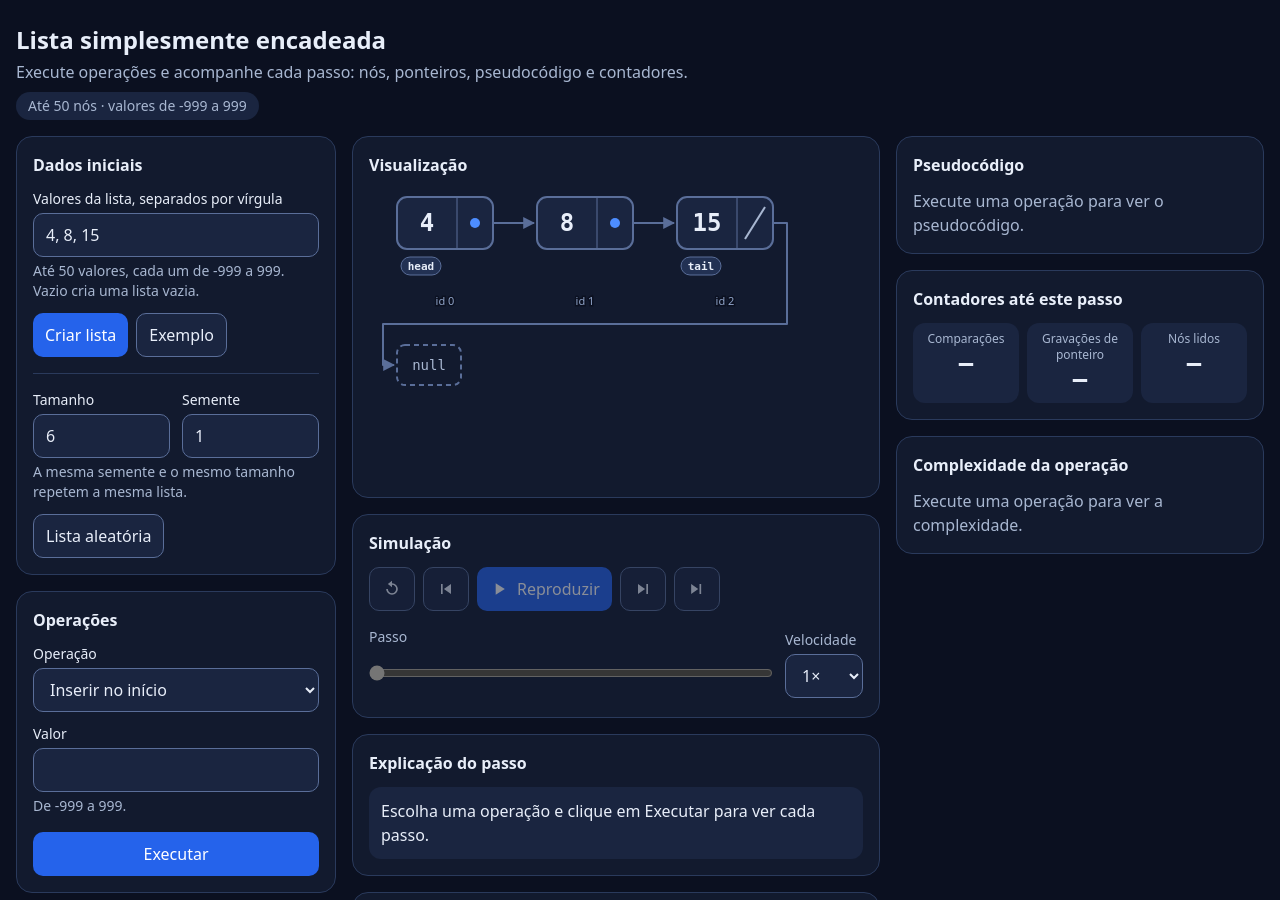
Test case: pesquisa › valor ausente não é erro: percorre tudo e avisa
Select "Pesquisar valor" in the dropdown labelled "Operação" at point(176, 690), box [33, 668, 319, 712]
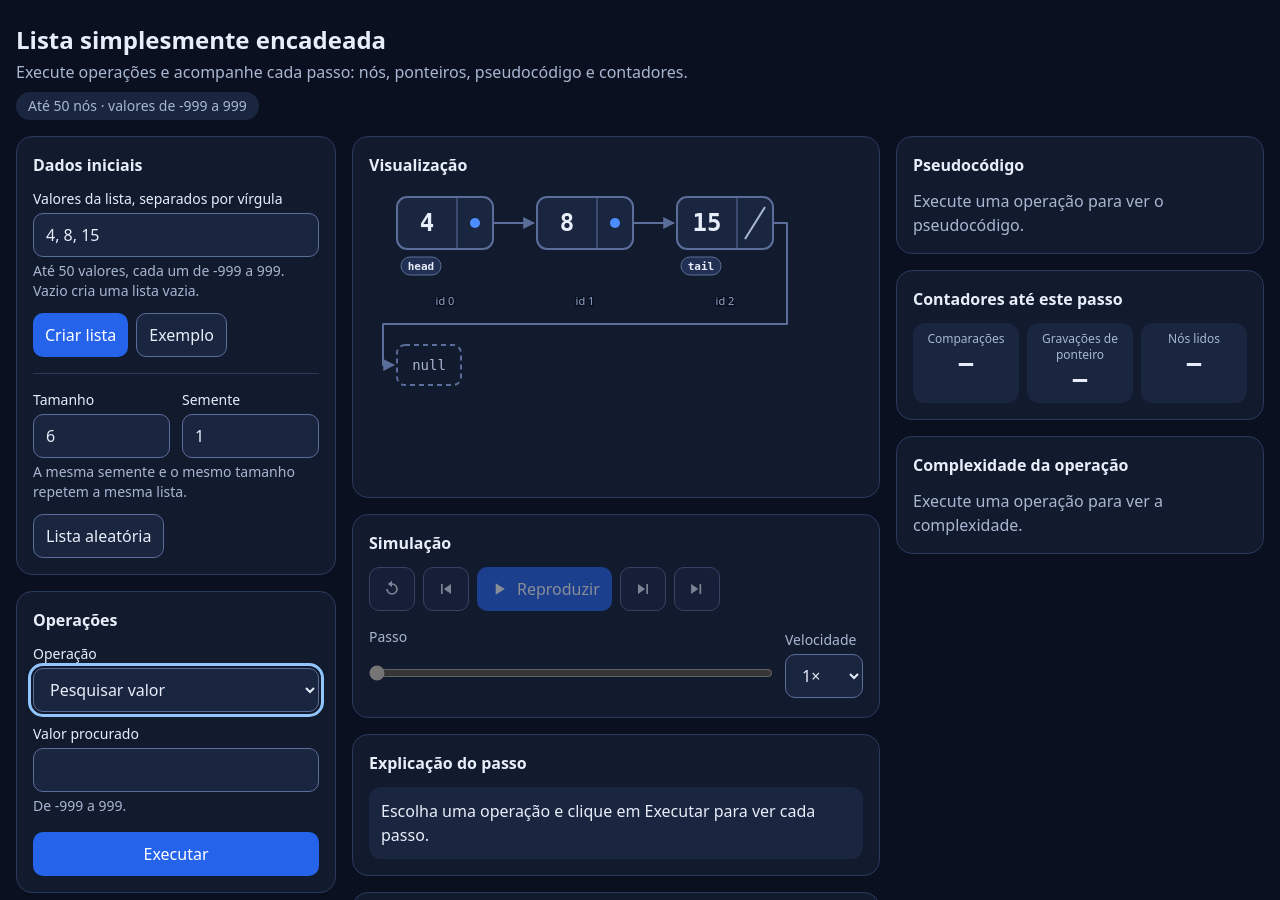
Type "99" into the field labelled "Valor procurado" at point(176, 770), box [33, 748, 319, 792]
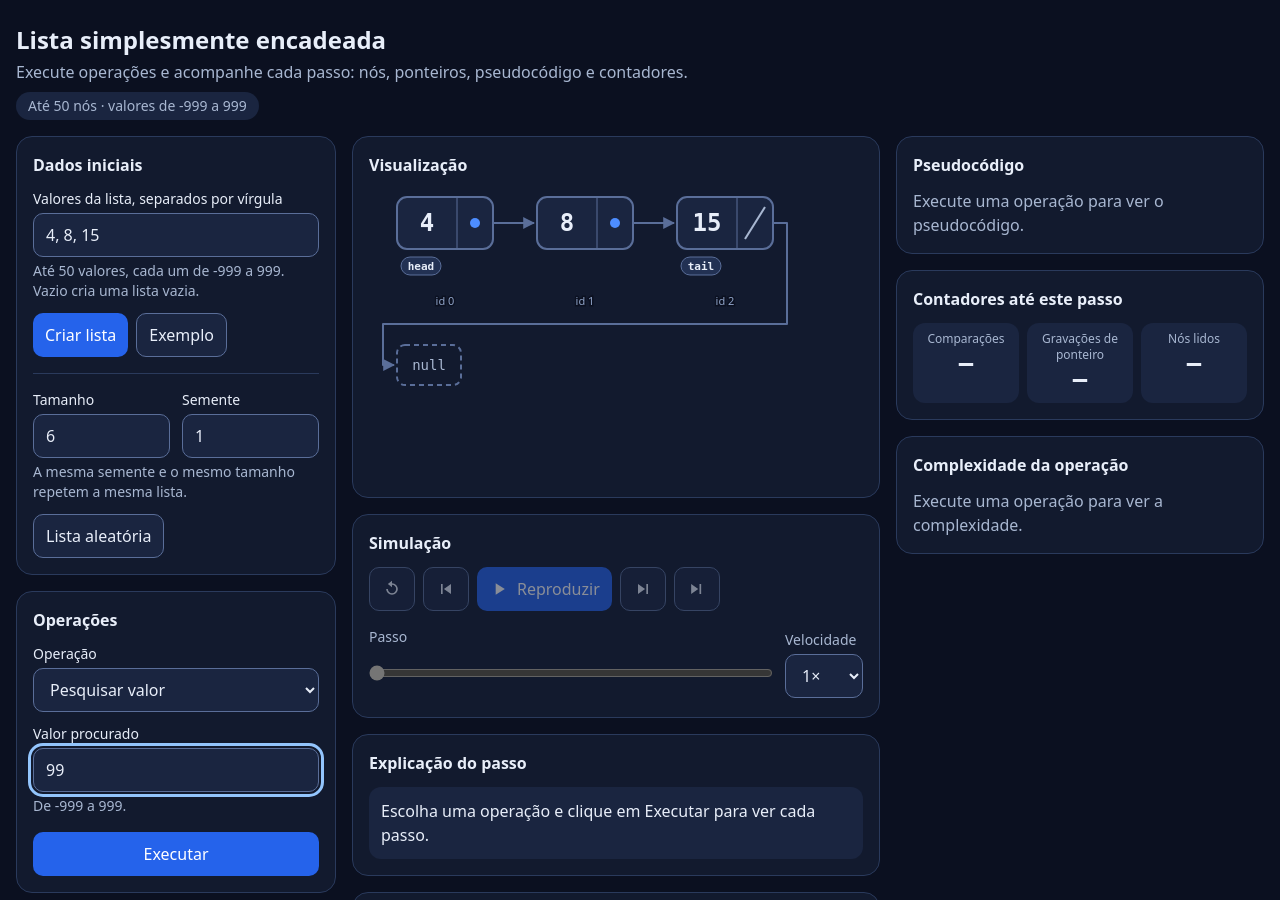
Click the button "Executar" at point(176, 854), box [33, 832, 319, 876]
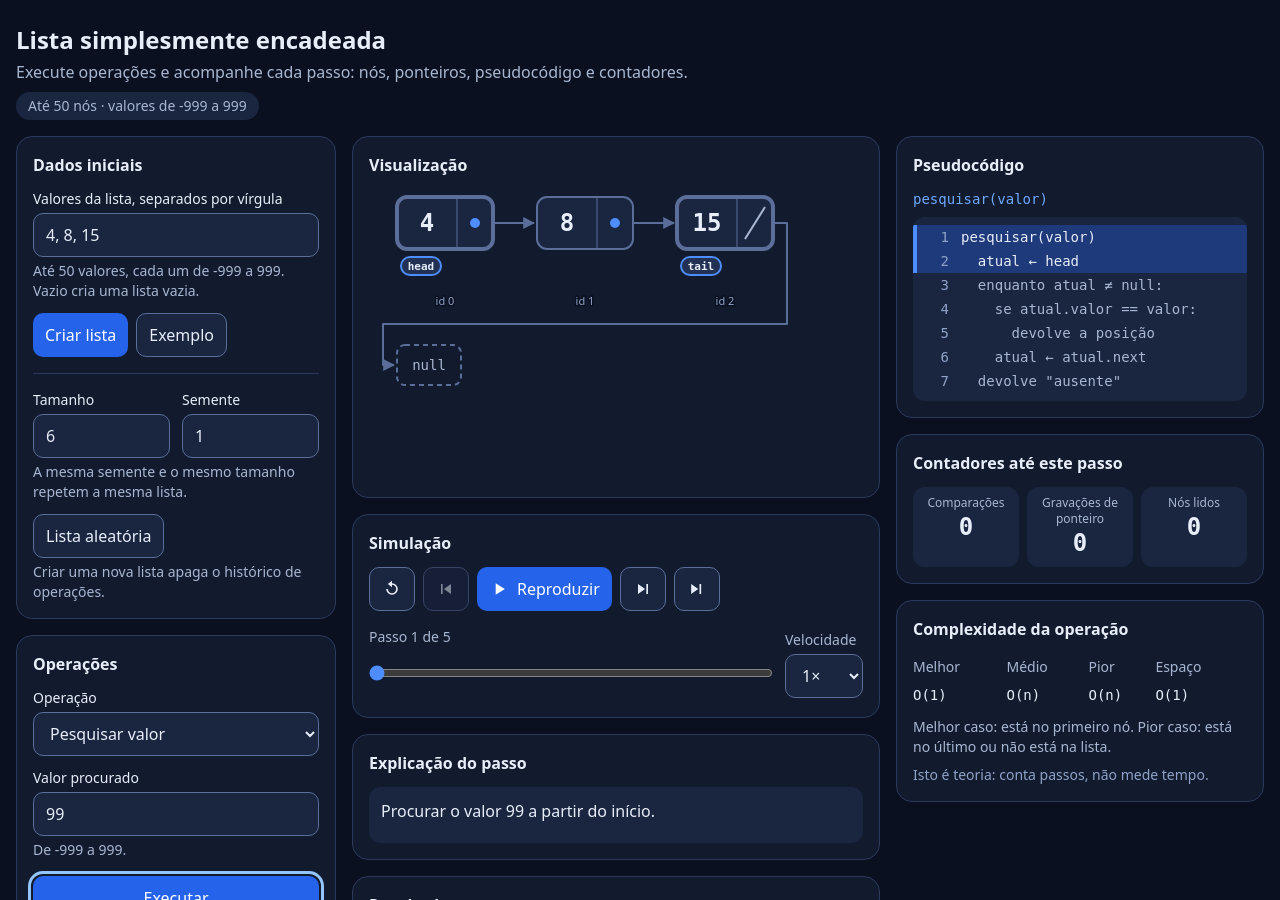
Click the button named "Ir ao último passo" at point(697, 589), box [674, 567, 720, 611]
(page scrolled)
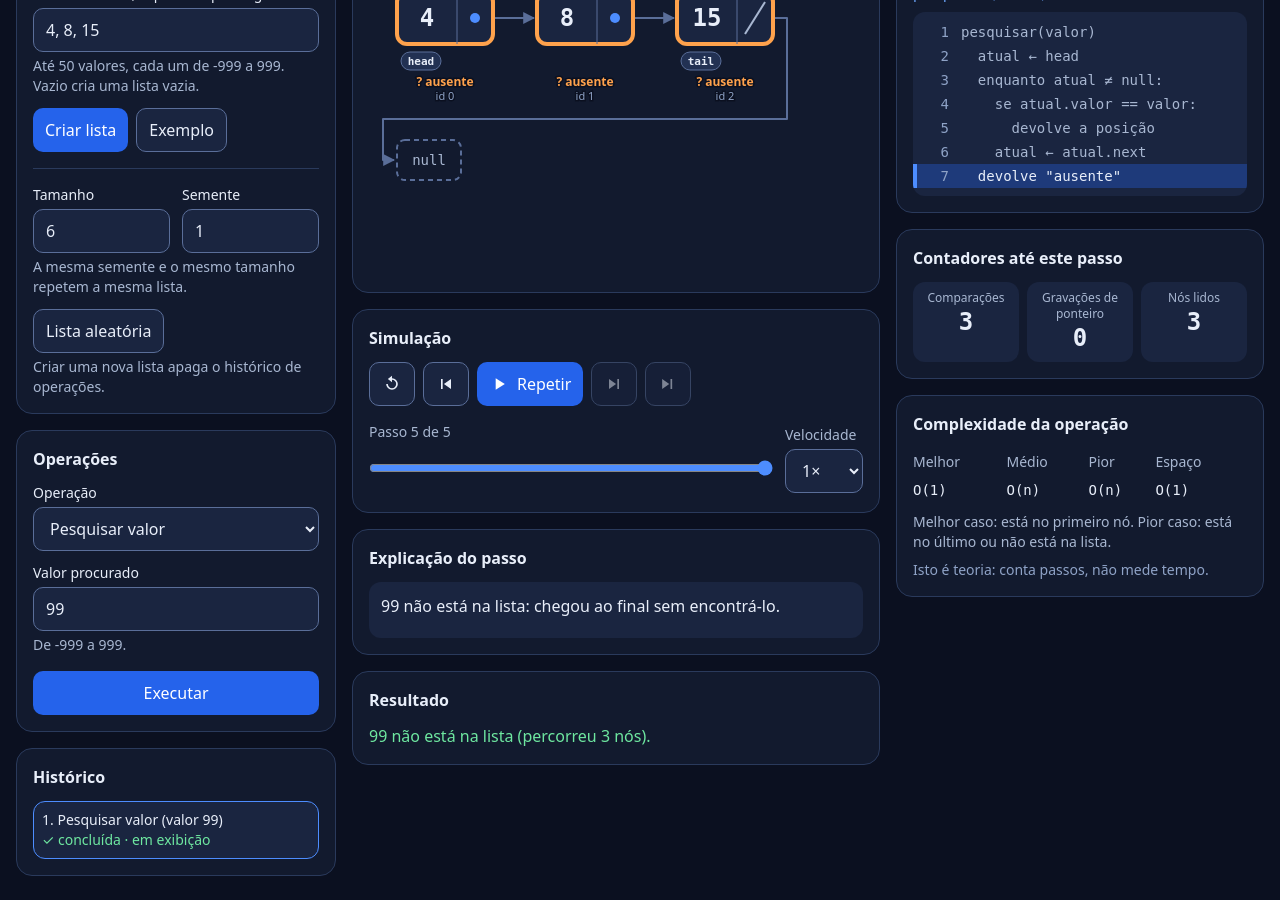
Check: the message with test id "result" reads "99 não está na lista (percorreu 3 nós).", box [369, 725, 650, 747]
